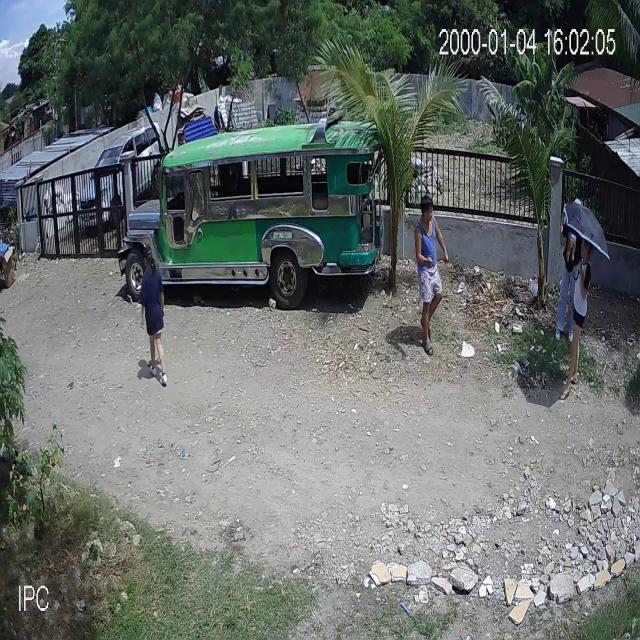standing: (554, 194, 586, 343)
walking: (412, 190, 447, 357), (556, 244, 590, 401), (143, 242, 167, 389)
